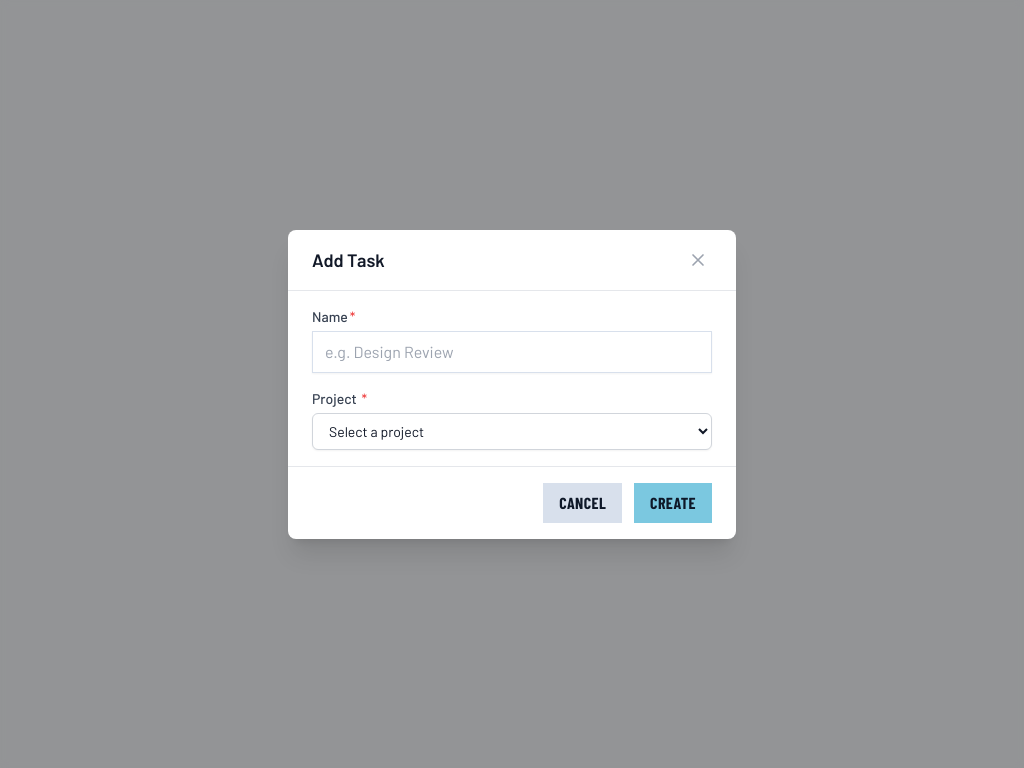
Test: TaskForm › shows validation error for empty name
Note: Select a project so validation only fails on name
Select "Project X (Client A)" in the dropdown labelled "Project *": coordinates (512, 431) [312,412,712,450]
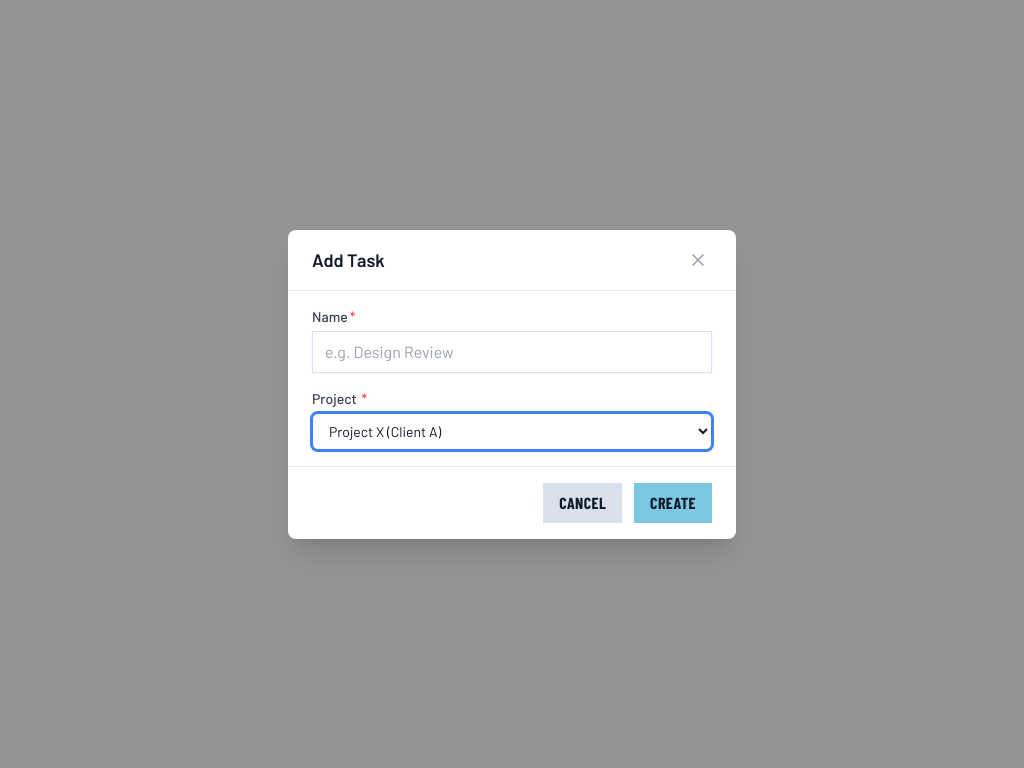
Click the button "Create": coordinates (673, 502) [634,482,712,522]
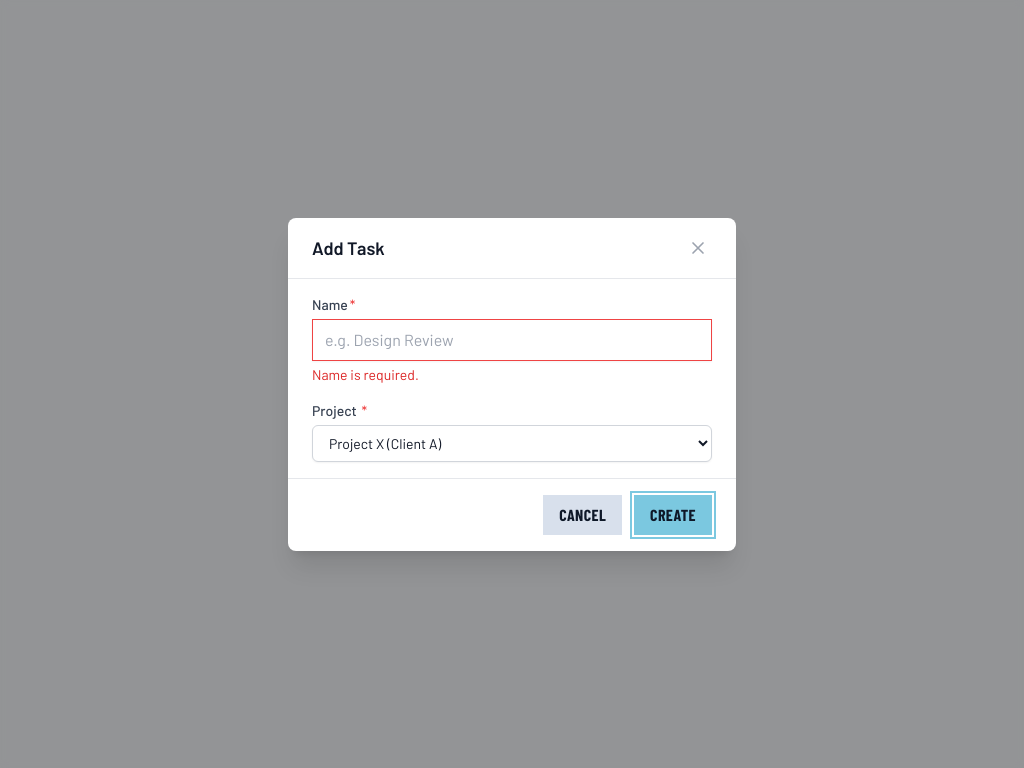
Now the message reads "Name is required.", box [312,366,419,382]
